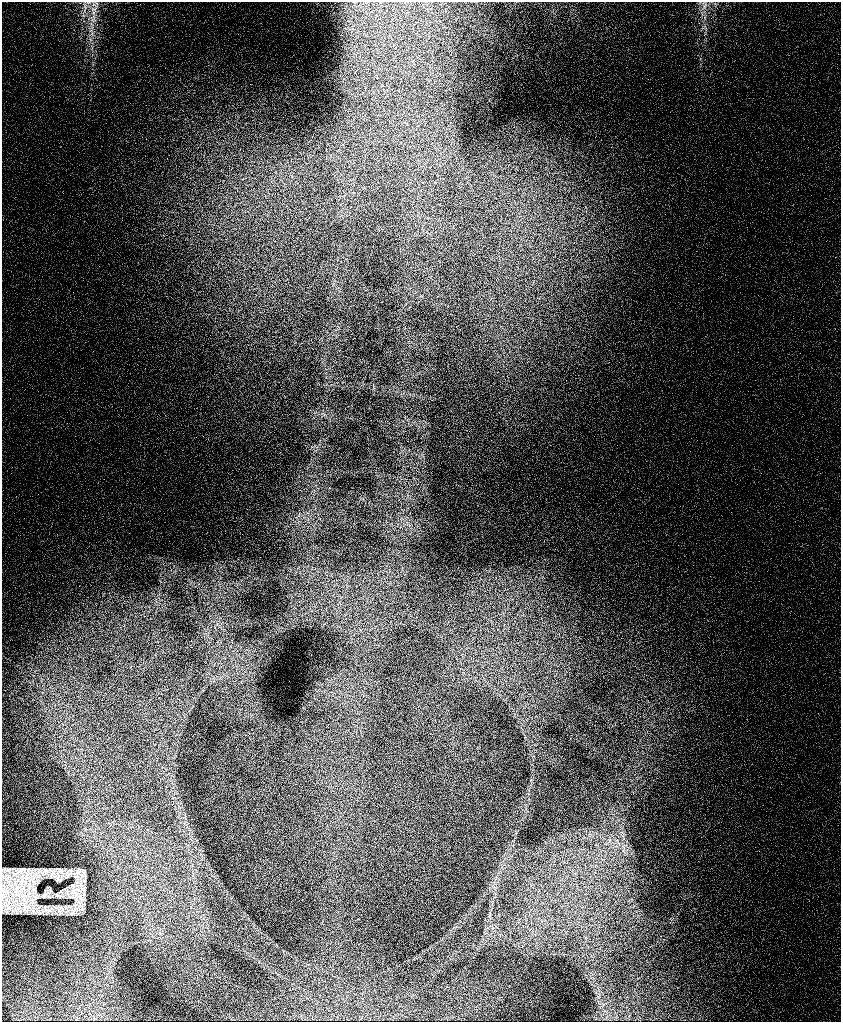lumbar scoliosis: (298, 47, 475, 554)
